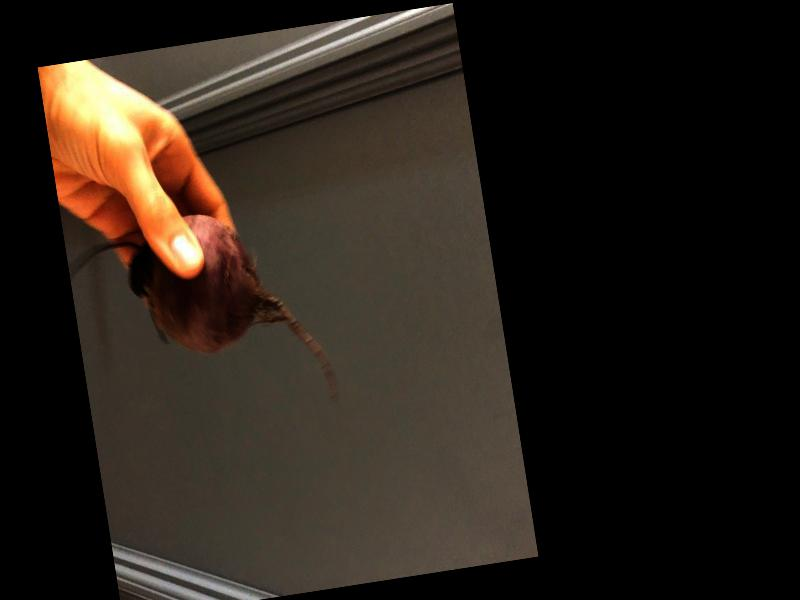Beet: (63, 197, 339, 442)
